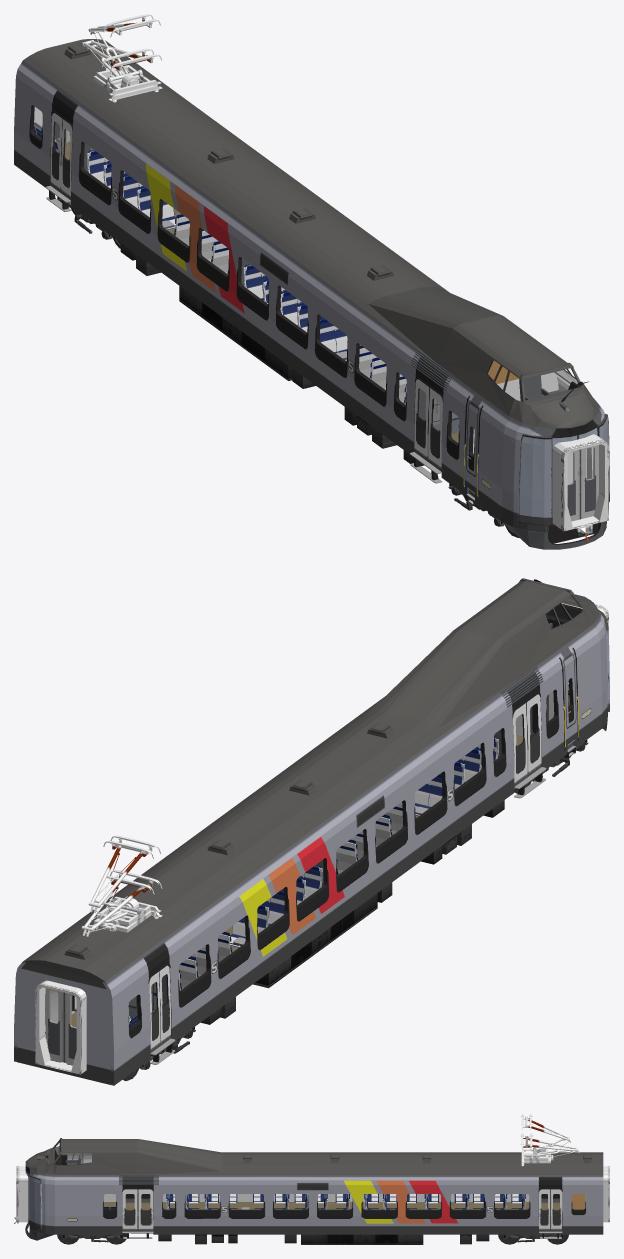
Rendered from mrwicmfront_gangway.obj.
3 renders of one model, top to bottom at view 1: azimuth 30°, elevation 25°; view 2: azimuth 150°, elevation 25°; view 3: azimuth 270°, elevation 25°, orthographic. The views are drawn at different scales.
Visible parts, largest first — view 1: side, jibung, chair_second, frontparts, habu, mak, side_front, backdoor, jibungparts, m_panto6m, door_RB, door_RF (+7 smaller); view 2: side, jibung, chair_second, backout, habu, mak, m_panto6m, jibungparts, backdoor, m_panto, door_RF, door_RB (+4 smaller); view 3: side, jibung, chair_second, habu, badak, mak, DT71, frontparts, door_LB, side_front, door_LF, inside (+6 smaller).
Boxes of the visible parts, left/top/right/bottom form: side: left=14, top=58, right=570, bottom=521; jibung: left=23, top=39, right=598, bottom=428; chair_second: left=87, top=150, right=406, bottom=404; frontparts: left=502, top=381, right=609, bottom=549; habu: left=120, top=243, right=599, bottom=543; mak: left=67, top=141, right=608, bottom=531; side_front: left=502, top=398, right=604, bottom=532; backdoor: left=54, top=122, right=598, bottom=521; jibungparts: left=64, top=43, right=453, bottom=390; m_panto6m: left=88, top=14, right=161, bottom=96; door_RB: left=50, top=113, right=429, bottom=457; door_RF: left=61, top=118, right=442, bottom=467; side: left=14, top=624, right=601, bottom=1085; jibung: left=24, top=580, right=598, bottom=981; chair_second: left=178, top=736, right=498, bottom=990; backout: left=17, top=960, right=110, bottom=1084; habu: left=201, top=788, right=515, bottom=1024; mak: left=35, top=604, right=608, bottom=1074; m_panto6m: left=88, top=835, right=161, bottom=925; jibungparts: left=64, top=666, right=543, bottom=959; backdoor: left=45, top=680, right=568, bottom=1064; m_panto: left=81, top=870, right=162, bottom=936; door_RF: left=159, top=694, right=541, bottom=1041; door_RB: left=149, top=703, right=527, bottom=1049; side: left=55, top=1152, right=603, bottom=1234; jibung: left=25, top=1139, right=603, bottom=1174; chair_second: left=166, top=1194, right=525, bottom=1209; habu: left=131, top=1233, right=489, bottom=1244; badak: left=104, top=1202, right=559, bottom=1210; mak: left=16, top=1166, right=609, bottom=1222; DT71: left=57, top=1233, right=568, bottom=1244; frontparts: left=14, top=1154, right=53, bottom=1240; door_LB: left=138, top=1189, right=562, bottom=1229; side_front: left=30, top=1169, right=54, bottom=1234; door_LF: left=122, top=1189, right=550, bottom=1229; inside: left=67, top=1159, right=529, bottom=1201.
Bounding box in the file's own units: 3.17 × 5.74 × 26.18.
